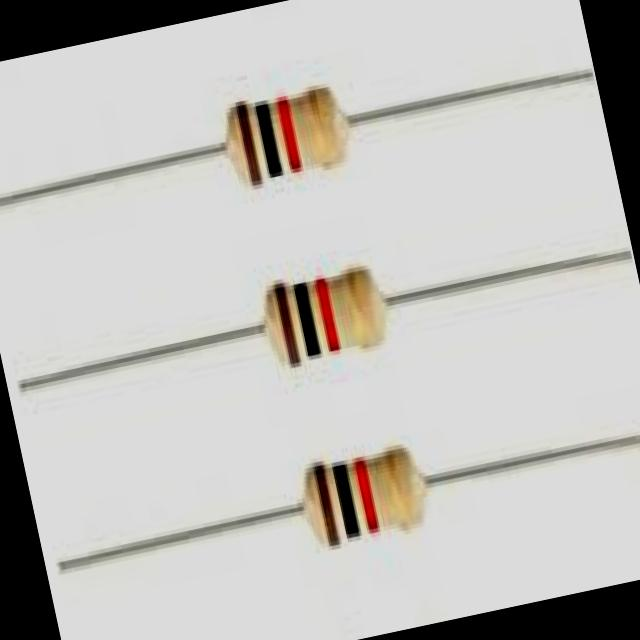Resistor: (303, 448, 430, 550), (264, 269, 390, 371), (227, 88, 351, 189)
black: (331, 464, 359, 537), (292, 282, 319, 355), (255, 104, 281, 177)
brown: (273, 283, 299, 367), (312, 465, 338, 545), (235, 105, 261, 185)
gold: (343, 268, 370, 351), (383, 450, 408, 533), (306, 87, 328, 166)
red: (276, 97, 301, 172), (353, 460, 377, 532), (315, 278, 339, 350)
